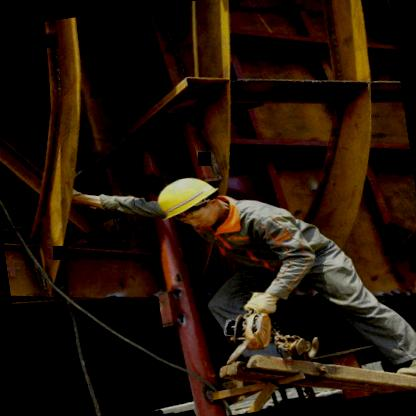helmet: (150, 164, 236, 240)
